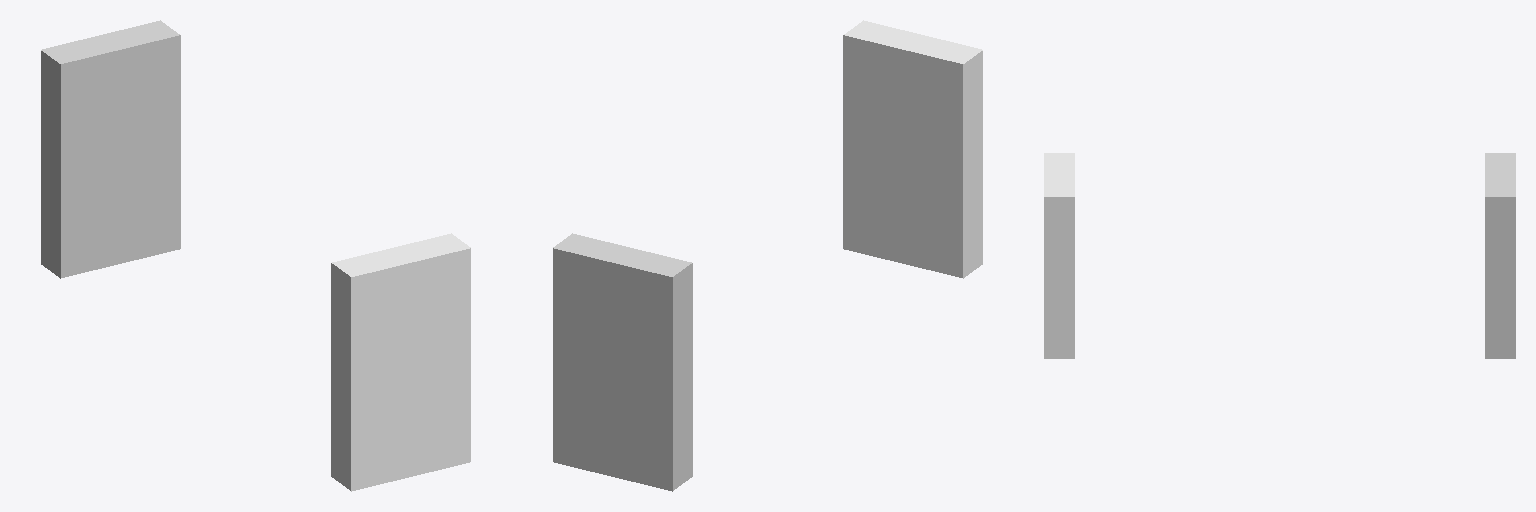
URDF robot description (panda):
<?xml version="1.0" ?>
<!-- =================================================================================== -->
<!-- |    This document was autogenerated by xacro from panda_arm_hand.urdf.xacro      | -->
<!-- |    EDITING THIS FILE BY HAND IS NOT RECOMMENDED                                 | -->
<!-- =================================================================================== -->
<robot name="panda" xmlns:xacro="http://www.ros.org/wiki/xacro">
  <link name="base_link">
    <visual>
      <geometry>
        <mesh filename="/franka/visual/link0.dae"/>
      </geometry>
      <material name="panda_white"/>
    </visual>
    <collision>
      <geometry>
        <mesh filename="/franka/visual/link0.dae"/>
      </geometry>
      <material name="panda_white"/>
    </collision>
  </link>
  <link name="panda_link1">
    <visual>
      <geometry>
        <mesh filename="/franka/visual/link1.dae"/>
      </geometry>
      <material name="panda_white"/>
    </visual>
    <collision>
      <geometry>
        <mesh filename="/franka/visual/link1.dae"/>
      </geometry>
      <material name="panda_white"/>
    </collision>
  </link>
  <joint name="panda_joint1" type="revolute">
    <safety_controller k_position="100.0" k_velocity="40.0" soft_lower_limit="-2.8973" soft_upper_limit="2.8973"/>
    <origin rpy="0 0 0" xyz="0 0 0.333"/>
    <parent link="base_link"/>
    <child link="panda_link1"/>
    <axis xyz="0 0 1"/>
    <limit effort="87" lower="-2.9671" upper="2.9671" velocity="2.1750"/>
  </joint>
  <link name="panda_link2">
    <visual>
      <geometry>
        <mesh filename="/franka/visual/link2.dae"/>
      </geometry>
      <material name="panda_white"/>
    </visual>
    <collision>
      <geometry>
        <mesh filename="/franka/visual/link2.dae"/>
      </geometry>
      <material name="panda_white"/>
    </collision>
  </link>
  <joint name="panda_joint2" type="revolute">
    <safety_controller k_position="100.0" k_velocity="40.0" soft_lower_limit="-1.7628" soft_upper_limit="1.7628"/>
    <origin rpy="-1.57079632679 0 0" xyz="0 0 0"/>
    <parent link="panda_link1"/>
    <child link="panda_link2"/>
    <axis xyz="0 0 1"/>
    <limit effort="87" lower="-1.8326" upper="1.8326" velocity="2.1750"/>
  </joint>
  <link name="panda_link3">
    <visual>
      <geometry>
        <mesh filename="/franka/visual/link3.dae"/>
      </geometry>
      <material name="panda_white"/>
    </visual>
    <collision>
      <geometry>
        <mesh filename="/franka/visual/link3.dae"/>
      </geometry>
      <material name="panda_white"/>
    </collision>
  </link>
  <joint name="panda_joint3" type="revolute">
    <safety_controller k_position="100.0" k_velocity="40.0" soft_lower_limit="-2.8973" soft_upper_limit="2.8973"/>
    <origin rpy="1.57079632679 0 0" xyz="0 -0.316 0"/>
    <parent link="panda_link2"/>
    <child link="panda_link3"/>
    <axis xyz="0 0 1"/>
    <limit effort="87" lower="-2.9671" upper="2.9671" velocity="2.1750"/>
  </joint>
  <link name="panda_link4">
    <visual>
      <geometry>
        <mesh filename="/franka/visual/link4.dae"/>
      </geometry>
      <material name="panda_white"/>
    </visual>
    <collision>
      <geometry>
        <mesh filename="/franka/visual/link4.dae"/>
      </geometry>
      <material name="panda_white"/>
    </collision>
  </link>
  <joint name="panda_joint4" type="revolute">
    <safety_controller k_position="100.0" k_velocity="40.0" soft_lower_limit="-3.0718" soft_upper_limit="-0.0698"/>
    <origin rpy="1.57079632679 0 0" xyz="0.0825 0 0"/>
    <parent link="panda_link3"/>
    <child link="panda_link4"/>
    <axis xyz="0 0 1"/>
    <limit effort="87" lower="-3.1416" upper="0.0" velocity="2.1750"/>
  </joint>
  <link name="panda_link5">
    <visual>
      <geometry>
        <mesh filename="/franka/visual/link5.dae"/>
      </geometry>
      <material name="panda_white"/>
    </visual>
    <collision>
      <geometry>
        <mesh filename="/franka/visual/link5.dae"/>
      </geometry>
      <material name="panda_white"/>
    </collision>
  </link>
  <joint name="panda_joint5" type="revolute">
    <safety_controller k_position="100.0" k_velocity="40.0" soft_lower_limit="-2.8973" soft_upper_limit="2.8973"/>
    <origin rpy="-1.57079632679 0 0" xyz="-0.0825 0.384 0"/>
    <parent link="panda_link4"/>
    <child link="panda_link5"/>
    <axis xyz="0 0 1"/>
    <limit effort="12" lower="-2.9671" upper="2.9671" velocity="2.6100"/>
  </joint>
  <link name="panda_link6">
    <visual>
      <geometry>
        <mesh filename="/franka/visual/link6.dae"/>
      </geometry>
#      <material name="panda_white"/>
    </visual>
    <collision>
      <geometry>
        <mesh filename="/franka/visual/link6.dae"/>
      </geometry>
      <material name="panda_white"/>
    </collision>
  </link>
  <joint name="panda_joint6" type="revolute">
    <safety_controller k_position="100.0" k_velocity="40.0" soft_lower_limit="-0.0175" soft_upper_limit="3.7525"/>
    <origin rpy="1.57079632679 0 0" xyz="0 0 0"/>
    <parent link="panda_link5"/>
    <child link="panda_link6"/>
    <axis xyz="0 0 1"/>
    <limit effort="12" lower="-0.0873" upper="3.8223" velocity="2.6100"/>
  </joint>
  <link name="panda_link7">
    <visual>
      <geometry>
        <mesh filename="/franka/visual/link7.dae"/>
      </geometry>
      <material name="panda_white"/>
    </visual>
    <collision>
      <geometry>
        <mesh filename="/franka/visual/link7.dae"/>
      </geometry>
      <material name="panda_white"/>
    </collision>
  </link>
  <joint name="panda_joint7" type="revolute">
    <safety_controller k_position="100.0" k_velocity="40.0" soft_lower_limit="-2.8973" soft_upper_limit="2.8973"/>
    <origin rpy="1.57079632679 0 0" xyz="0.088 0 0"/>
    <parent link="panda_link6"/>
    <child link="panda_link7"/>
    <axis xyz="0 0 1"/>
    <limit effort="12" lower="-6.29" upper="6.29" velocity="2.6100"/>
  </joint>
  <link name="panda_link8"/>

  <joint name="panda_joint8" type="fixed">
    <origin rpy="0 0 0" xyz="0 0 0.107"/>
    <parent link="panda_link7"/>
    <child link="panda_link8"/>
    <axis xyz="0 0 0"/>
  </joint>

  <joint name="panda_robotiq_coupling" type="fixed">
    <origin rpy="0 0 0" xyz="0 0 0"/>
    <parent link="panda_link8"/>
    <child link="robotiq_85_coupling_link"/>
    <axis xyz="0 0 0"/>
  </joint>

  <link name="robotiq_85_coupling_link">
    <visual>
      <geometry>
        <mesh filename="robotiq_2f_85/visual/robotiq_gripper_couplingvn.obj"/>
      </geometry>
      <material name="dark black"/>
    </visual>
    <collision>
      <geometry>
        <mesh filename="robotiq_2f_85/visual/robotiq_gripper_couplingvn.obj"/>
      </geometry>
    </collision>
  </link>

  <joint name="robotiq_85_base_joint" type="fixed">
    <parent link="robotiq_85_coupling_link"/>
    <child link="robotiq_85_base_link"/>
    <origin rpy="0 0 0" xyz="0 0 0"/>
  </joint>

  <link name="robotiq_85_base_link">
    <visual>
      <geometry>
        <mesh filename="robotiq_2f_85/visual/robotiq_arg2f_85_base_linkvn.obj"/>
      </geometry>
      <material name="Black"/>
    </visual>
    <collision>
      <geometry>
        <mesh filename="robotiq_2f_85/visual/robotiq_arg2f_85_base_linkvn.obj"/>
      </geometry>
    </collision>
      <inertial>
        <origin xyz="8.625E-08 -4.6583E-06 0.03145" rpy="0 0 0" />
        <mass value="0.22652" />
        <inertia ixx="0.00020005" ixy="-4.2442E-10" ixz="-2.9069E-10" iyy="0.00017832" iyz="-3.4402E-08" izz="0.00013478" />
      </inertial>
  </link>

  <joint name="robotiq_85_left_knuckle_joint" type="revolute">
    <parent link="robotiq_85_base_link"/>
    <child link="robotiq_85_left_knuckle_link"/>
    <axis xyz="1 0 0"/>
    <origin rpy="0 0.0 3.1415926" xyz="0 -0.0306011 0.054904"/>
    <limit lower="0" upper="0.81" velocity="100.0"/>
  </joint>
  <joint name="robotiq_85_right_knuckle_joint" type="revolute">
    <parent link="robotiq_85_base_link"/>
    <child link="robotiq_85_right_knuckle_link"/>
    <axis xyz="1 0 0"/>
    <origin rpy="0.0 0.0 0" xyz="0 0.0306011 0.054904"/>
    <limit lower="0" upper="0.81" velocity="100.0"/>
  </joint>

  <link name="robotiq_85_left_knuckle_link">
    <visual>
      <geometry>
        <mesh filename="robotiq_2f_85/visual/robotiq_arg2f_85_outer_knucklevn.obj"/>
      </geometry>
    <material name="Black"/>
    </visual>
    <collision>
      <geometry>
        <mesh filename="robotiq_2f_85/visual/robotiq_arg2f_85_outer_knucklevn.obj"/>
      </geometry>
    </collision>
    <!--<inertial>
        <origin xyz="-0.000200000000003065 0.0199435877845359 0.0292245259211331" rpy="0 0 0" />
        <mass value="0.00853198276973456" />
        <inertia ixx="2.89328108496468E-06" ixy="-1.57935047237397E-19" ixz="-1.93980378593255E-19" iyy="1.86719750325683E-06" iyz="-1.21858577871576E-06" izz="1.21905238907251E-06" />
    </inertial>-->
  </link>

  <link name="robotiq_85_right_knuckle_link">
    <visual>
      <geometry>
        <mesh filename="robotiq_2f_85/visual/robotiq_arg2f_85_outer_knucklevn.obj"/>
      </geometry>
      <material name="Black"/>
    </visual>
    <collision>
      <geometry>
        <mesh filename="robotiq_2f_85/visual/robotiq_arg2f_85_outer_knucklevn.obj"/>
      </geometry>
    </collision>
    <!--<inertial>
        <origin xyz="-0.000200000000003065 0.0199435877845359 0.0292245259211331" rpy="0 0 0" />
        <mass value="0.00853198276973456" />
        <inertia ixx="2.89328108496468E-06" ixy="-1.57935047237397E-19" ixz="-1.93980378593255E-19" iyy="1.86719750325683E-06" iyz="-1.21858577871576E-06" izz="1.21905238907251E-06" />
    </inertial>-->
  </link>


  <joint name="robotiq_85_left_finger_joint" type="fixed">
    <parent link="robotiq_85_left_knuckle_link"/>
    <child link="robotiq_85_left_finger_link"/>
    <origin rpy="0 0 0" xyz="0 0.0315 -0.0041"/>
    <limit lower="-3.14" upper="3.14" velocity="100.0"/>
  </joint>
  <joint name="robotiq_85_right_finger_joint" type="fixed">
    <parent link="robotiq_85_right_knuckle_link"/>
    <child link="robotiq_85_right_finger_link"/>
    <origin rpy="0 0 0" xyz="0 0.0315 -0.0041"/>
    <limit lower="-3.14" upper="3.14" velocity="100.0"/>
  </joint>

  <link name="robotiq_85_left_finger_link">
    <visual>
      <geometry>
        <mesh filename="robotiq_2f_85/visual/robotiq_arg2f_85_outer_fingervn.obj"/>
      </geometry>
      <material name="Black"/>
    </visual>
    <collision>
      <geometry>
        <mesh filename="robotiq_2f_85/visual/robotiq_arg2f_85_outer_fingervn.obj"/>
      </geometry>
    </collision>
    <!--<inertial>
      <mass value="0.027309"/>
      <origin xyz="0.0 0.0 0.0"/>
      <inertia ixx="0.000003" ixy="-0.000002" ixz="0.000000" iyx="-0.000002" iyy="0.000021" iyz="0.000000" izx="0.000000" izy="0.000000" izz="0.000020"/>
    </inertial>-->
  </link>
  <link name="robotiq_85_right_finger_link">
    <visual>
      <geometry>
        <mesh filename="robotiq_2f_85/visual/robotiq_arg2f_85_outer_fingervn.obj"/>
      </geometry>
      <material name="Black"/>
    </visual>
    <collision>
      <geometry>
        <mesh filename="robotiq_2f_85/visual/robotiq_arg2f_85_outer_fingervn.obj"/>
      </geometry>
    </collision>
    <!--<inertial>
      <mass value="0.027309"/>
      <origin xyz="0.0 0.0 0.0"/>
      <inertia ixx="0.000003" ixy="-0.000002" ixz="0.000000" iyx="-0.000002" iyy="0.000021" iyz="0.000000" izx="0.000000" izy="0.000000" izz="0.000020"/>
    </inertial>-->
  </link>

  <joint name="robotiq_85_left_inner_knuckle_joint" type="revolute">
    <parent link="robotiq_85_base_link"/>
    <child link="robotiq_85_left_inner_knuckle_link"/>
    <axis xyz="1 0 0"/>
    <origin rpy="0 0.0 0" xyz="0 0.0127 0.06142"/>
    <limit lower="0" upper="0.8757" velocity="100.0"/>
  </joint>


  <joint name="robotiq_85_right_inner_knuckle_joint" type="revolute">
    <parent link="robotiq_85_base_link"/>
    <child link="robotiq_85_right_inner_knuckle_link"/>
    <axis xyz="1 0 0"/>
    <origin rpy="0 0 3.1415926" xyz="0 -0.0127 0.06142"/>
    <limit lower="0" upper="0.8757" velocity="100.0"/>
  </joint>

  <link name="robotiq_85_left_inner_knuckle_link">
    <visual>
      <geometry>
        <mesh filename="robotiq_2f_85/visual/robotiq_arg2f_85_inner_knucklevn.obj"/>
      </geometry>
      <material name="Black"/>
    </visual>
    <collision>
      <geometry>
        <mesh filename="robotiq_2f_85/visual/robotiq_arg2f_85_inner_knucklevn.obj"/>
      </geometry>
    </collision>
    <!--<inertial>
      <mass value="0.029951"/>
      <origin xyz="0.0 0.0 0.0"/>
      <inertia ixx="0.000039" ixy="0.000000" ixz="0.000000" iyx="0.000000" iyy="0.000005" iyz="0.000000" izx="0.000000" izy="0.000000" izz="0.000035"/>
    </inertial>-->
  </link>

  <link name="robotiq_85_right_inner_knuckle_link">
    <visual>
     <geometry>
        <mesh filename="robotiq_2f_85/visual/robotiq_arg2f_85_inner_knucklevn.obj"/>
      </geometry>
      <material name="Black"/>
    </visual>
    <collision>
     <geometry>
        <mesh filename="robotiq_2f_85/visual/robotiq_arg2f_85_inner_knucklevn.obj"/>
      </geometry>
    </collision>
    <!--<inertial>
      <mass value="0.029951"/>
      <origin xyz="0.0 0.0 0.0"/>
      <inertia ixx="0.000039" ixy="0.000000" ixz="0.000000" iyx="0.000000" iyy="0.000005" iyz="0.000000" izx="0.000000" izy="0.000000" izz="0.000035"/>
    </inertial>-->
  </link>

  <joint name="robotiq_85_left_finger_tip_joint" type="revolute">
    <parent link="robotiq_85_left_finger_link"/>
    <child link="robotiq_85_left_finger_tip_link"/>
    <axis xyz="1 0 0"/>
    <origin rpy="0.0 0.0 0.0" xyz="0 0.0061 0.0471"/>
    <limit lower="0" upper="-0.8" velocity="100.0"/>
  </joint>
  <joint name="robotiq_85_right_finger_tip_joint" type="revolute">
    <parent link="robotiq_85_right_finger_link"/>
    <child link="robotiq_85_right_finger_tip_link"/>
    <axis xyz="1 0 0"/>
    <origin rpy="0.0 0.0 0.0" xyz="0 0.0061 0.0471"/>
    <limit lower="0" upper="-0.8" velocity="100.0"/>
  </joint>

  <link name="robotiq_85_left_finger_tip_link">
    <contact>
      <lateral_friction value="2.0"/>
      <spinning_friction value="0.1"/>
    </contact>
    <visual>
      <geometry>
        <mesh filename="robotiq_2f_85/visual/robotiq_arg2f_85_inner_fingervn.obj"/>
      </geometry>
      <material name="Gray"/>
    </visual>
    <collision>
      <geometry>
        <mesh filename="robotiq_2f_85/visual/robotiq_arg2f_85_inner_fingervn.obj"/>
      </geometry>
    </collision>
    <!--<inertial>
      <mass value="0.019555"/>
      <origin xyz="0.0 0.0 0.0"/>
      <inertia ixx="0.000002" ixy="0.000000" ixz="0.000000" iyx="0.000000" iyy="0.000005" iyz="0.000000" izx="0.000000" izy="0.000000" izz="0.000006"/>
    </inertial> -->
  </link>
  <link name="robotiq_85_right_finger_tip_link">
    <contact>
      <lateral_friction value="2.0"/>
      <spinning_friction value="0.1"/>
    </contact>
    <visual>
      <geometry>
        <mesh filename="robotiq_2f_85/visual/robotiq_arg2f_85_inner_fingervn.obj"/>
      </geometry>
      <material name="Gray"/>
    </visual>
    <collision>
      <geometry>
        <mesh filename="robotiq_2f_85/visual/robotiq_arg2f_85_inner_fingervn.obj"/>
      </geometry>
    </collision>
    <!--<inertial>
      <mass value="0.019555"/>
      <origin xyz="0.0 0.0 0.0"/>
      <inertia ixx="0.000002" ixy="0.000000" ixz="0.000000" iyx="0.000000" iyy="0.000005" iyz="0.000000" izx="0.000000" izy="0.000000" izz="0.000006"/>
    </inertial>-->
  </link>

    <!--
    <joint name="robotiq_2f_85_left_inner_finger_tip_link_joint" type="revolute">
      <parent link="robotiq_85_left_inner_knuckle_link"/>
      <child link="robotiq_85_left_finger_tip_link"/>
      <axis xyz="0 0 1"/>
      <origin xyz="0.043 -0.037 -0.0" rpy="0.0 0.0 0.0"/>
      <limit lower="-3.14" upper="3.14" velocity="100.0" effort="0.1"/>
      <mimic joint= multiplier="-1"/>
    </joint>-->

    <joint name="robotiq_2f_85_left_inner_finger_pad_joint" type="fixed">
      <origin xyz="0 -0.0220203446692936 0.03242" rpy="0 0 0"/>
      <parent link="robotiq_85_left_finger_tip_link" />
      <child link="robotiq_2f_85_left_inner_finger_pad" />
      <axis xyz="0 0 1" />
    </joint>

    <joint name="robotiq_2f_85_right_inner_finger_pad_joint" type="fixed">
      <origin xyz="0 -0.0220203446692936 0.03242" rpy="0 0 0"/>
      <parent link="robotiq_85_right_finger_tip_link" />
      <child link="robotiq_2f_85_right_inner_finger_pad" />
      <axis xyz="0 0 1" />
    </joint>

    <link name="robotiq_2f_85_left_inner_finger_pad">
      <visual>
        <origin xyz="0 0 0" rpy="0 0 0" />
        <geometry>
          <box size="0.022 0.00635 0.0375"/>
        </geometry>
        <material name="">
          <color rgba="0.9 0.9 0.9 1" />
        </material>
      </visual>
      <collision>
        <origin xyz="0 0 0" rpy="0 0 0" />
        <geometry>
           <box size="0.022 0.00635 0.0375"/>
        </geometry>
        <material name="">
          <color rgba="0.9 0.0 0.0 1" />
        </material>
      </collision>
    </link>


    <link name="robotiq_2f_85_right_inner_finger_pad">
      <visual>
        <origin xyz="0 0 0" rpy="0 0 0" />
        <geometry>
          <box size="0.022 0.00635 0.0375"/>
        </geometry>
        <material name="">
          <color rgba="1 1 1 1" />
        </material>
      </visual>
      <collision>
        <origin xyz="0 0 0" rpy="0 0 0" />
        <geometry>
           <box size="0.022 0.00635 0.0375"/>
        </geometry>
        <material name="">
          <color rgba="1 1 1 1" />
        </material>
      </collision>
    </link>


<material name="panda_white">
    <color rgba="1. 1. 1. 1."/>
  </material>
  <material name="dark black">
    <color rgba="0.1 0.1 0.1 1.0"/>
  </material>
  <material name="Black">
    <color rgba="0.1 0.1 0.1 1.0"/>
  </material>
  <material name="Gray">
    <color rgba="0.5 0.5 0.5 1.0"/>
  </material>
  <material name="cyan">
    <color rgba="0.25098 0.725490 0.6862745 1.0"/>
  </material>
</robot>

--- Facts derived from the render (not from the file) ---
3 views of the same robot in one strip: view 1: azimuth 30°, elevation 25°; view 2: azimuth 150°, elevation 25°; view 3: azimuth 270°, elevation 25° (orthographic).
Robot: panda — 21 links, 20 joints (13 revolute, 7 fixed); root link base_link; default pose: all joints at 0.
Links seen in each view (by area): view 1: robotiq_2f_85_left_inner_finger_pad, robotiq_2f_85_right_inner_finger_pad; view 2: robotiq_2f_85_left_inner_finger_pad, robotiq_2f_85_right_inner_finger_pad; view 3: robotiq_2f_85_left_inner_finger_pad, robotiq_2f_85_right_inner_finger_pad.
Link boxes in pixels (x1,y1,x2,y2): robotiq_2f_85_left_inner_finger_pad: (41, 20, 180, 278); robotiq_2f_85_right_inner_finger_pad: (331, 233, 470, 491); robotiq_2f_85_left_inner_finger_pad: (553, 233, 692, 491); robotiq_2f_85_right_inner_finger_pad: (843, 20, 982, 278); robotiq_2f_85_left_inner_finger_pad: (1485, 153, 1515, 358); robotiq_2f_85_right_inner_finger_pad: (1044, 153, 1074, 358).
Bounding box of the posed robot: 0.022 × 0.0987 × 0.0375 m (x, y, z).
Meshes: 6 distinct files referenced, 0 mesh visuals loaded (none loaded); not drawn: 10 (reference not matched to a file when rendering), 8 (reference in a form the renderer does not follow; not among the files counted above).